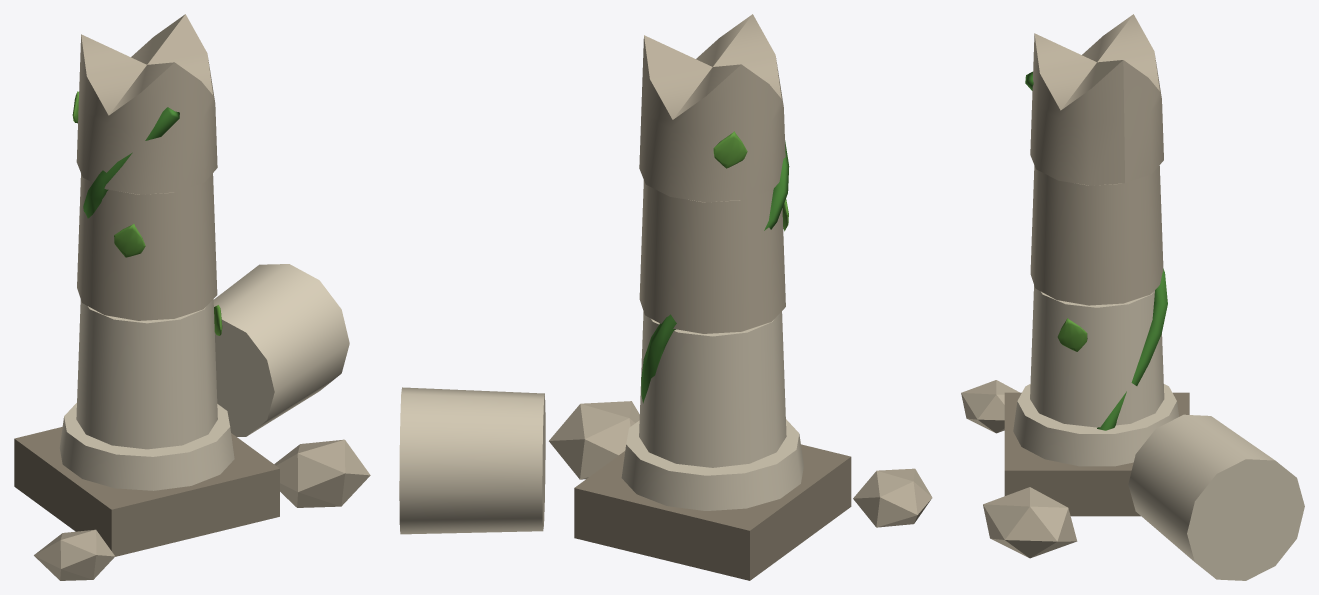
Rendered from RuinPillarBroken.glb.
3 views of the same model, side by side, from view 1: azimuth 30°, elevation 25°; view 2: azimuth 150°, elevation 25°; view 3: azimuth 270°, elevation 25° (orthographic). The views are drawn at different scales.
Visible parts, largest first — view 1: Body; view 2: Body; view 3: Body.
Boxes of the visible parts, x1,y1,x2,y2 form: Body: (14,14,370,580); Body: (399,14,932,580); Body: (961,14,1304,580).
Bounding box in the file's own units: 5.29 × 5.9 × 4.09.
1 material, 1 textured.
